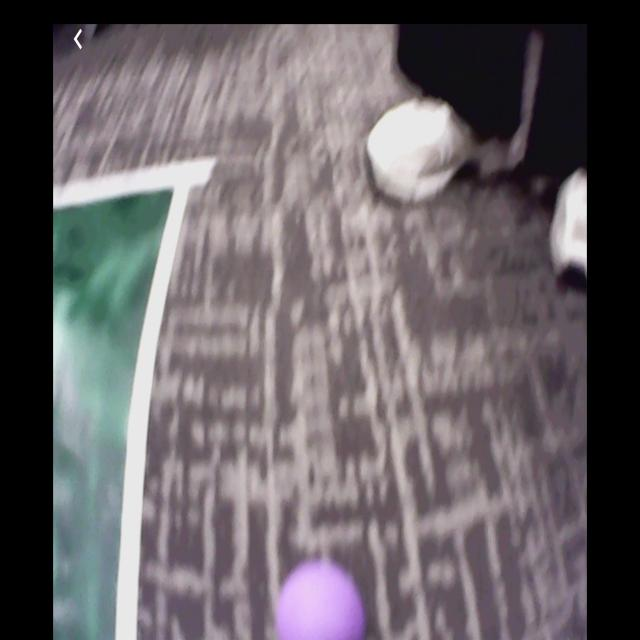ball: (278, 559, 365, 640)
